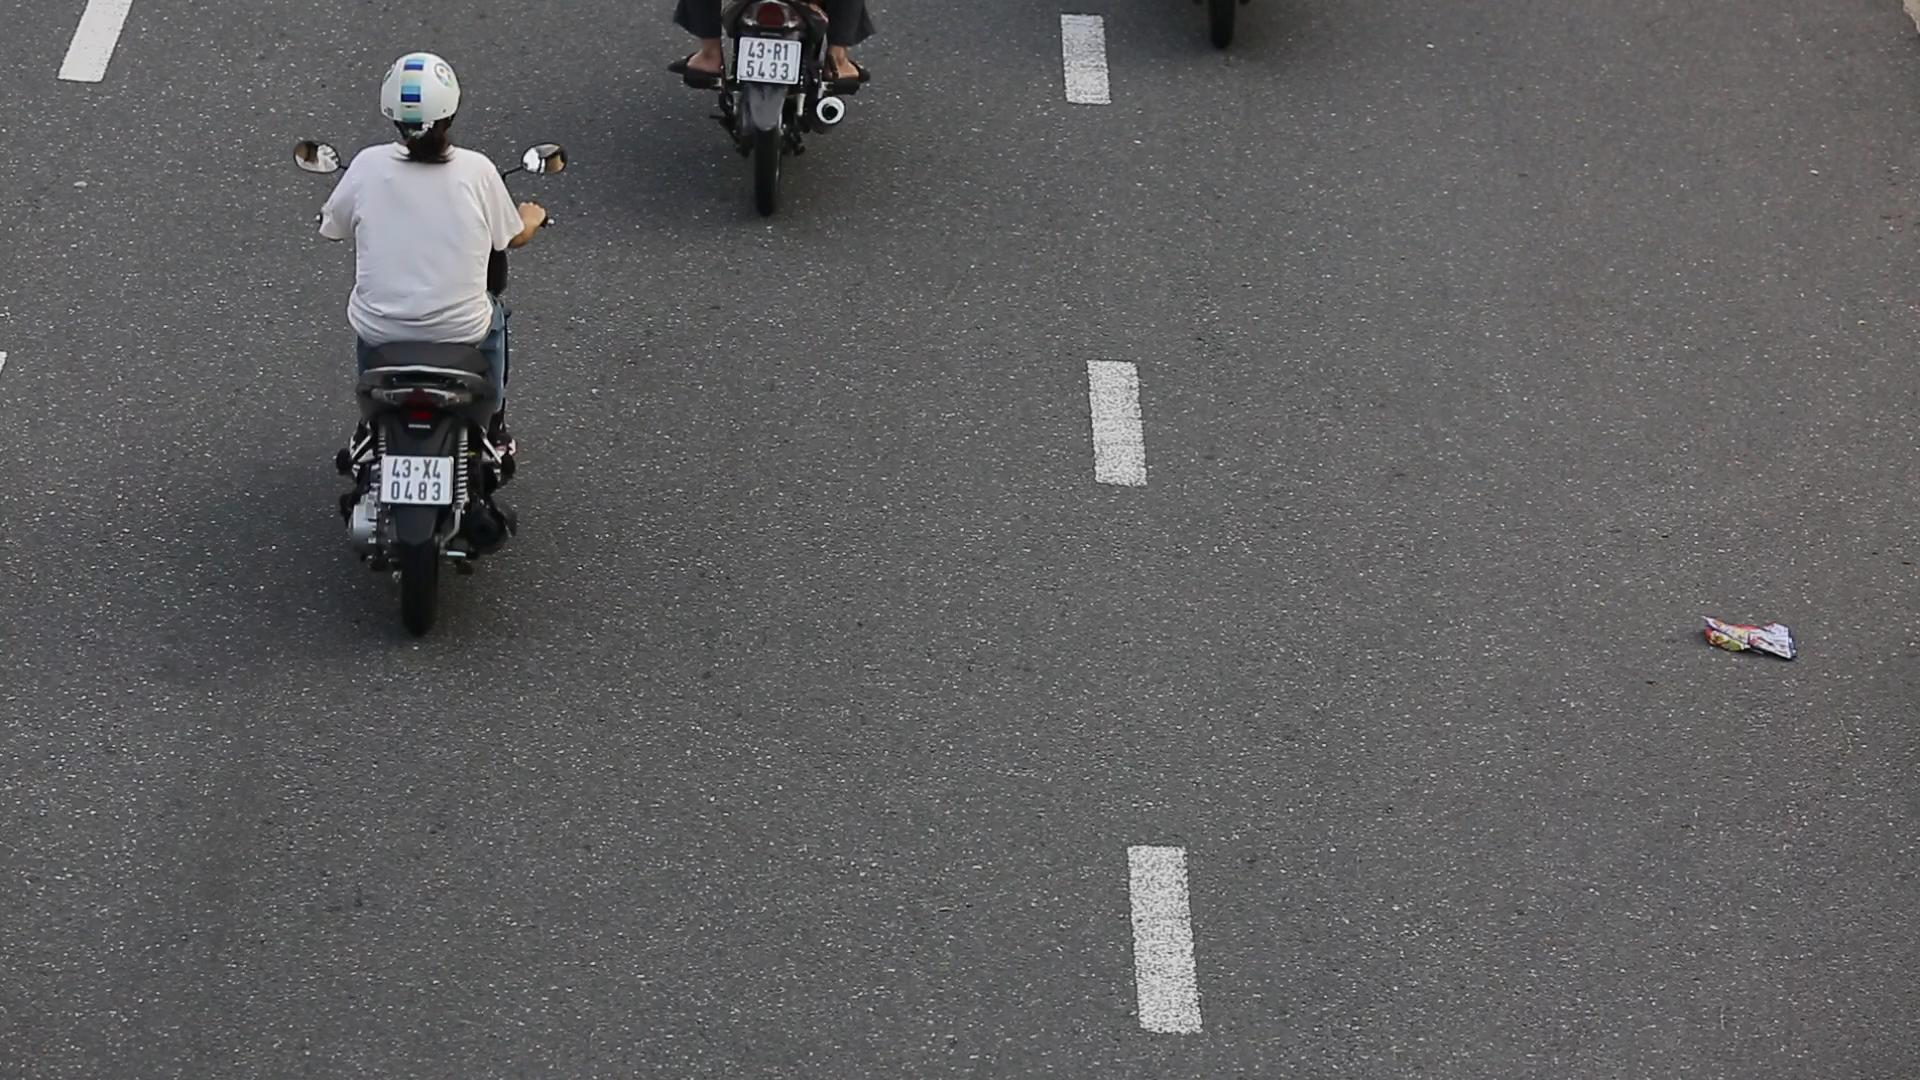motobike: (282, 41, 583, 634)
